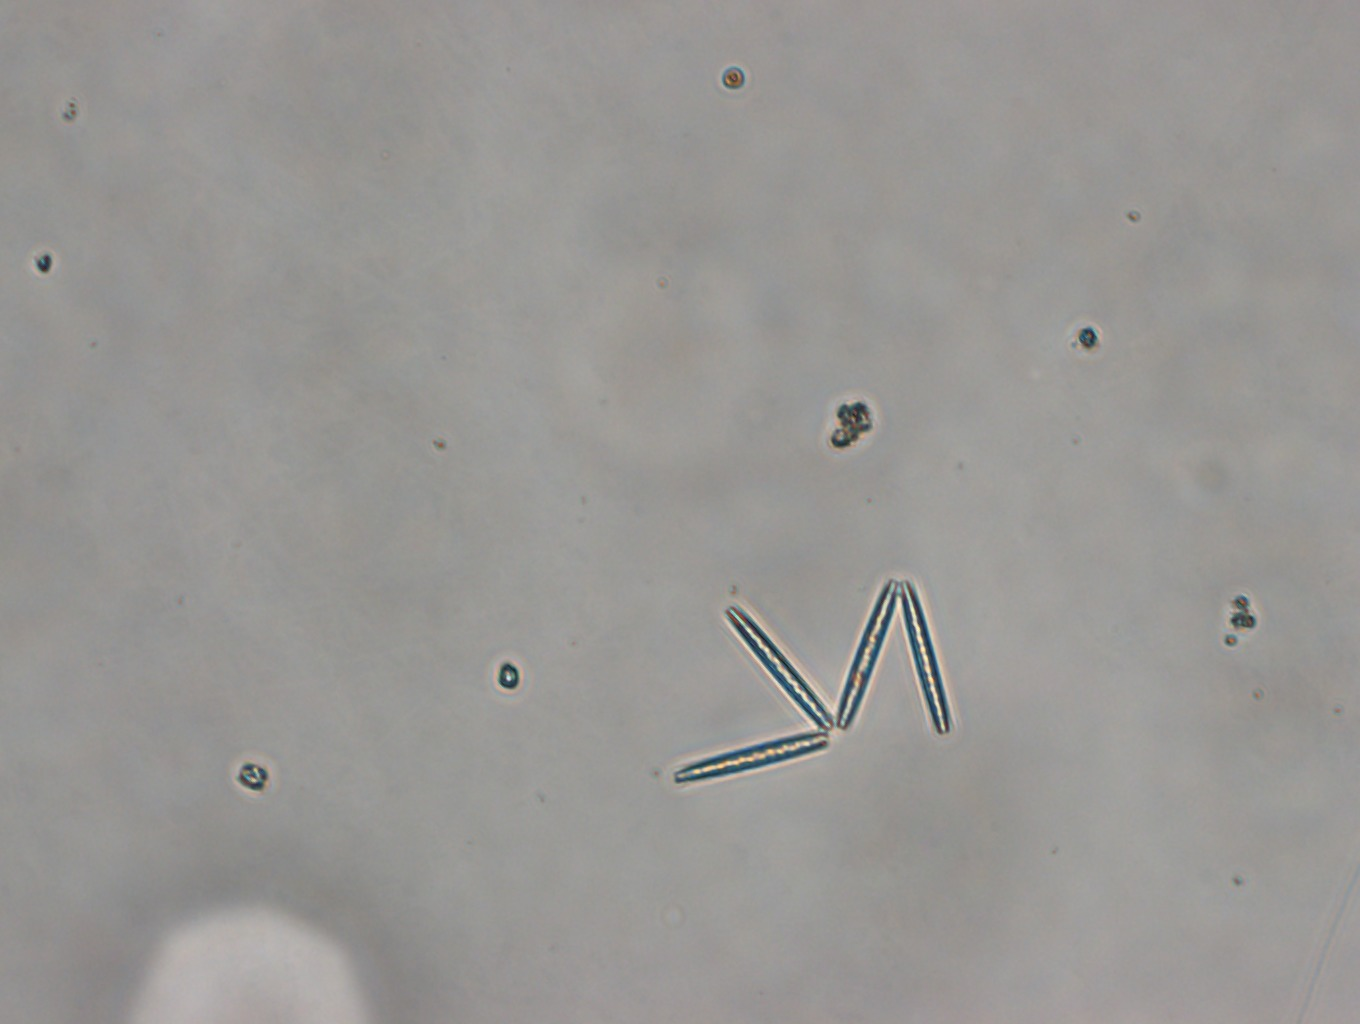thalassionema nitzschioides: (674, 577, 951, 785)
